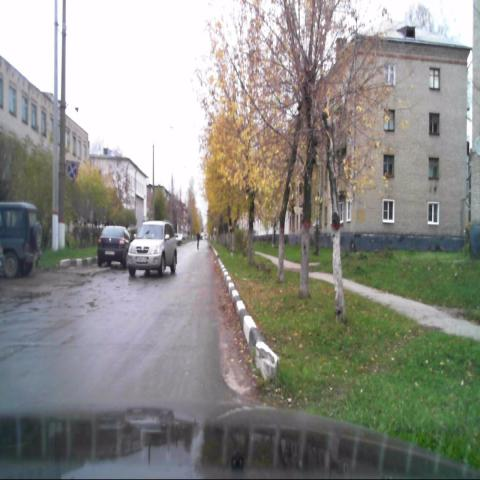3_27: (66, 159, 78, 181)
